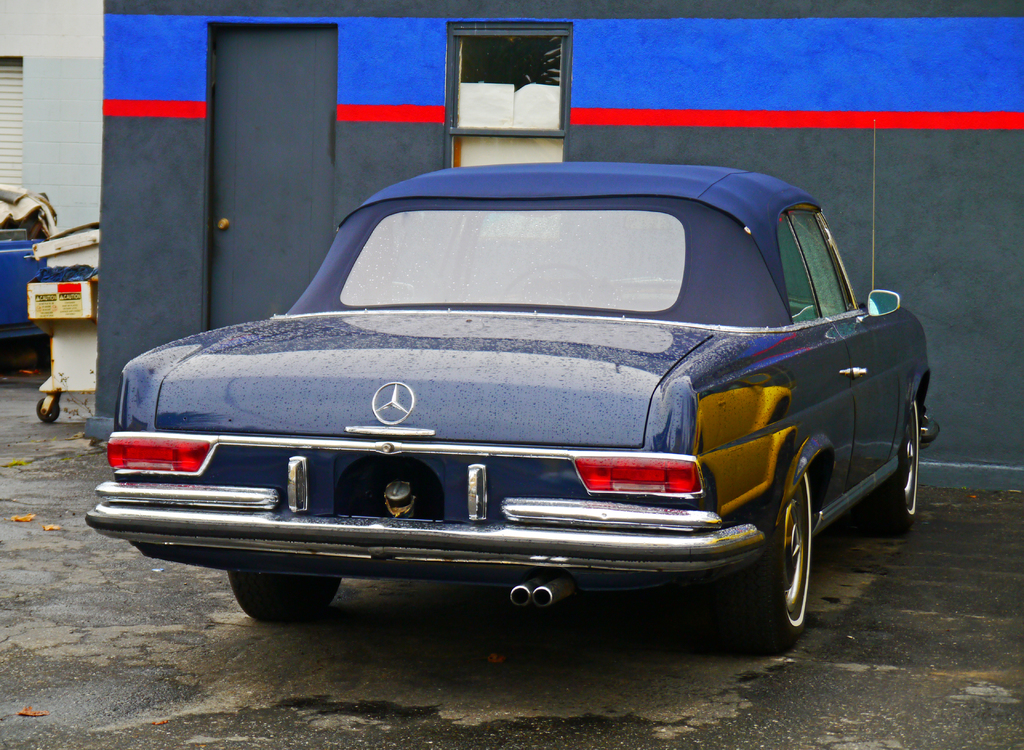cars: (79, 114, 939, 656)
